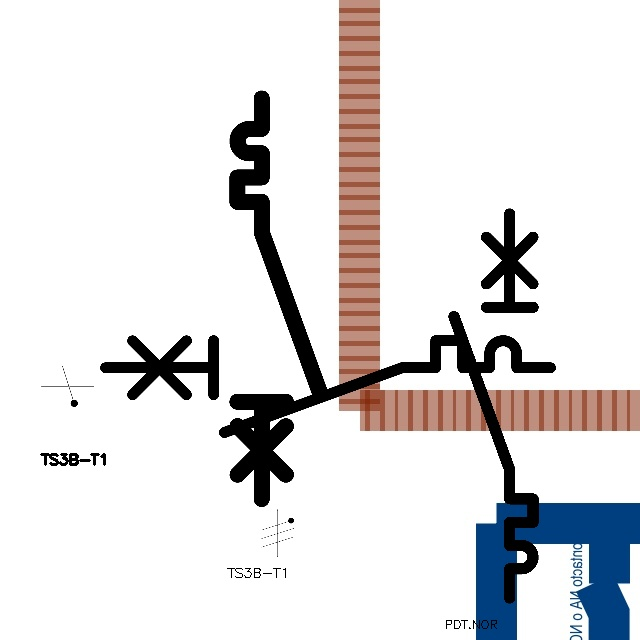interruptor_termomagnetico: (94, 329, 562, 443), (227, 88, 330, 509), (444, 204, 543, 608)
